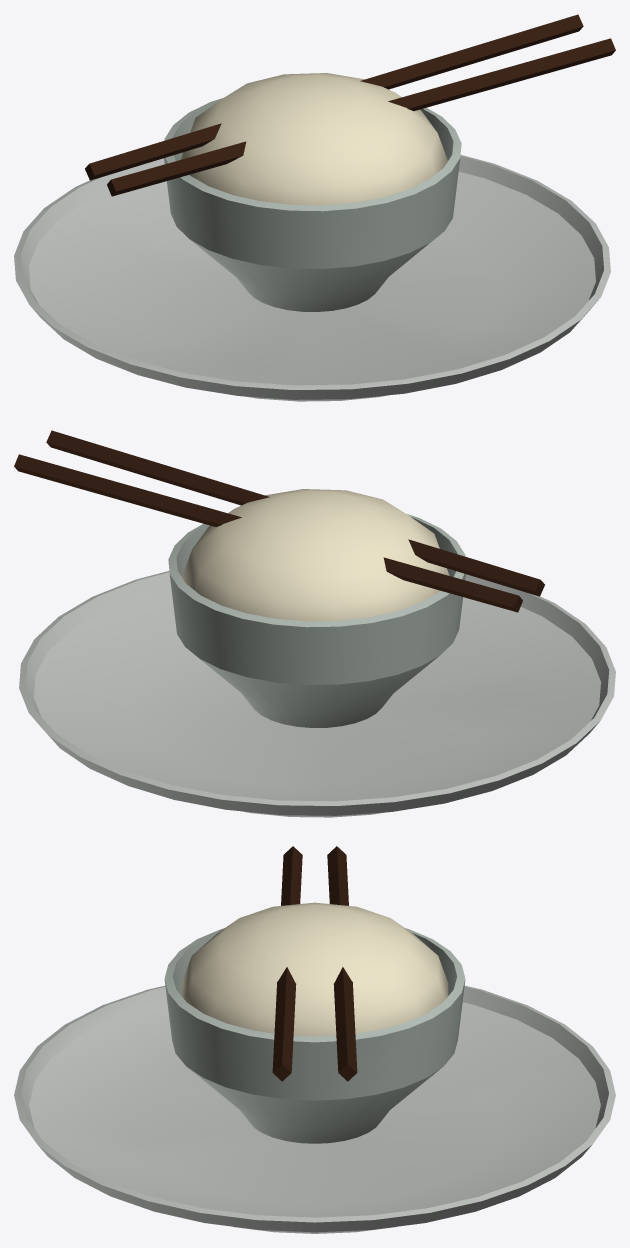
Rendered from fs-dish-rice-bowl.glb.
3 renders of one model, top to bottom at view 1: azimuth 30°, elevation 25°; view 2: azimuth 150°, elevation 25°; view 3: azimuth 270°, elevation 25°, orthographic.
Visible parts, largest first — view 1: plate__ceramic, food__food, bowl__ceramic; view 2: plate__ceramic, food__food, bowl__ceramic; view 3: plate__ceramic, food__food, bowl__ceramic.
Boxes of the visible parts, box(x1,y1,x2,y2) form: plate__ceramic: box(14, 155, 610, 401); food__food: box(85, 14, 615, 205); bowl__ceramic: box(164, 98, 461, 311); plate__ceramic: box(19, 571, 615, 817); food__food: box(14, 430, 544, 621); bowl__ceramic: box(168, 514, 465, 727); plate__ceramic: box(14, 985, 615, 1233); food__food: box(181, 846, 448, 1081); bowl__ceramic: box(164, 928, 465, 1143).
Size of the model in its own units: 0.2302 by 0.09 by 0.22.
